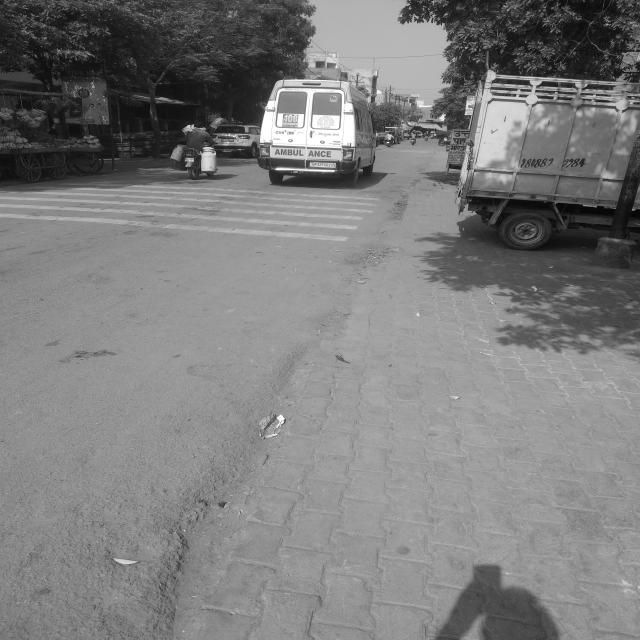Truck: (457, 71, 640, 250)
Two Wheeler: (185, 148, 202, 180)
